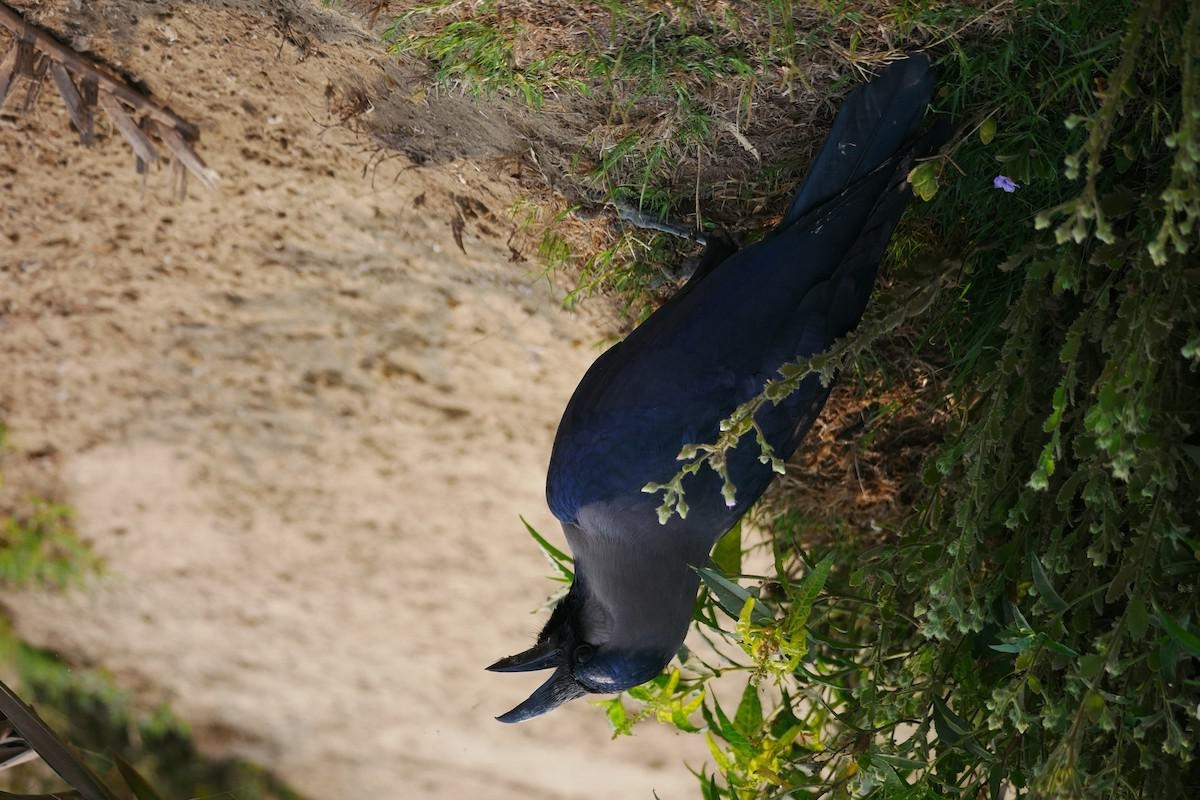crow: (482, 101, 953, 730)
